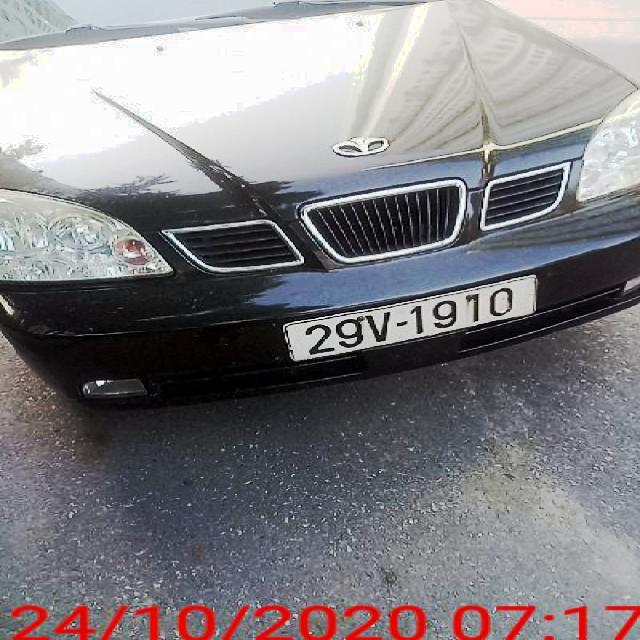license_plate: (282, 277, 535, 363)
